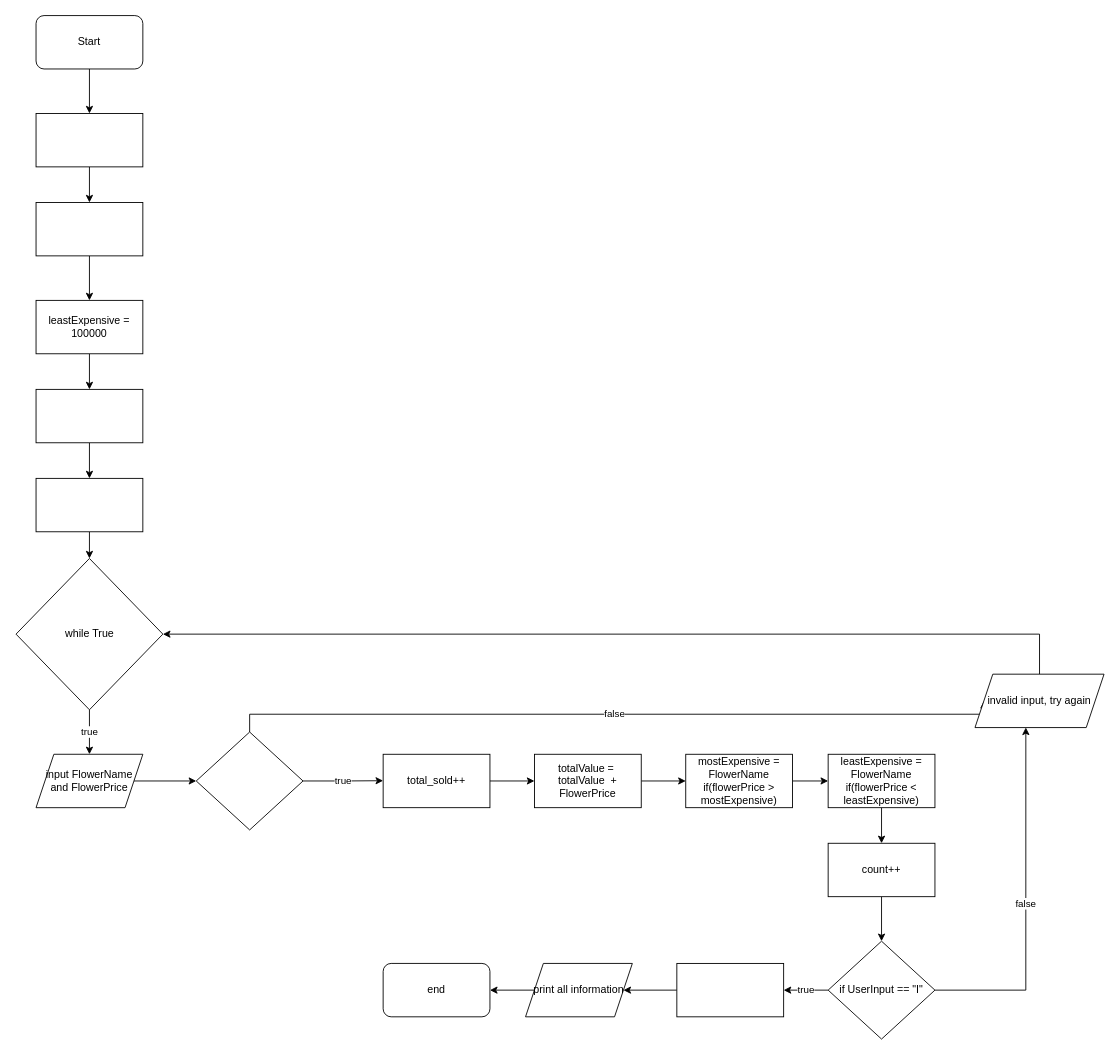
Image size: 1120x1055. Some labels were removed from this diagram. The box of each missing label's shape, as (x1, y1, x2, y2) in pixels:
avgValue = totalValie / count: (676, 963, 784, 1017)
count = 0: (35, 477, 143, 532)
if UserInput == "S": (195, 731, 303, 830)
mostExpensive = 0: (35, 202, 143, 256)
totalSold = 0: (35, 113, 143, 167)
totalValue = 0: (35, 388, 143, 443)
